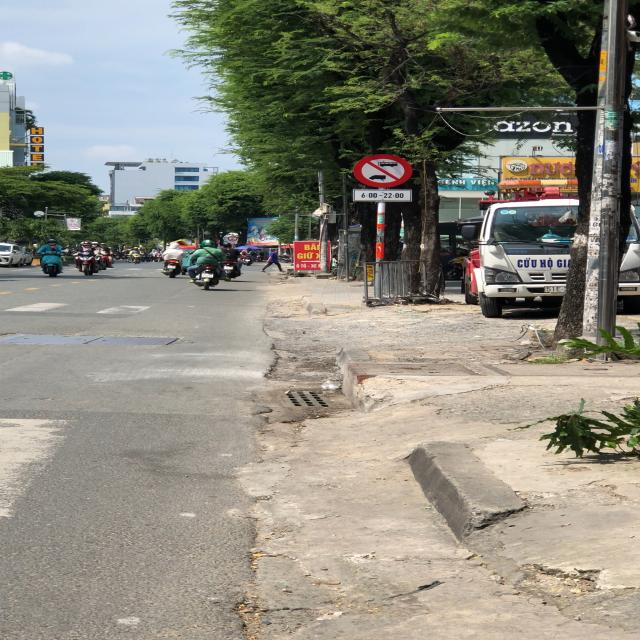Bien bao cam xe oto khach va xe oto tai: (345, 151, 417, 189)
